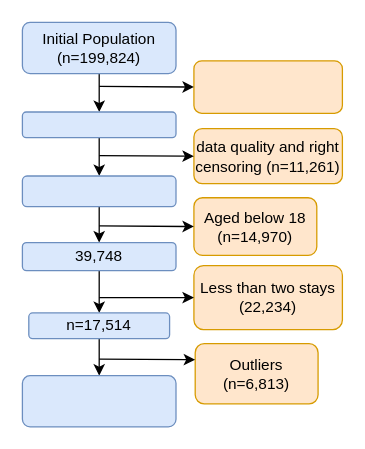
Some shapes in this 365 by 449 pixel diagram are drawn without their labels. Here are the shapes that lost their labels. From the top down, the box of each, then its label:
(193, 60, 342, 113): Not inpatient during study period (n=133,845)
(21, 111, 176, 138): n=65,979
(21, 175, 176, 207): n=54,718
(21, 374, 176, 427): n=10,701
